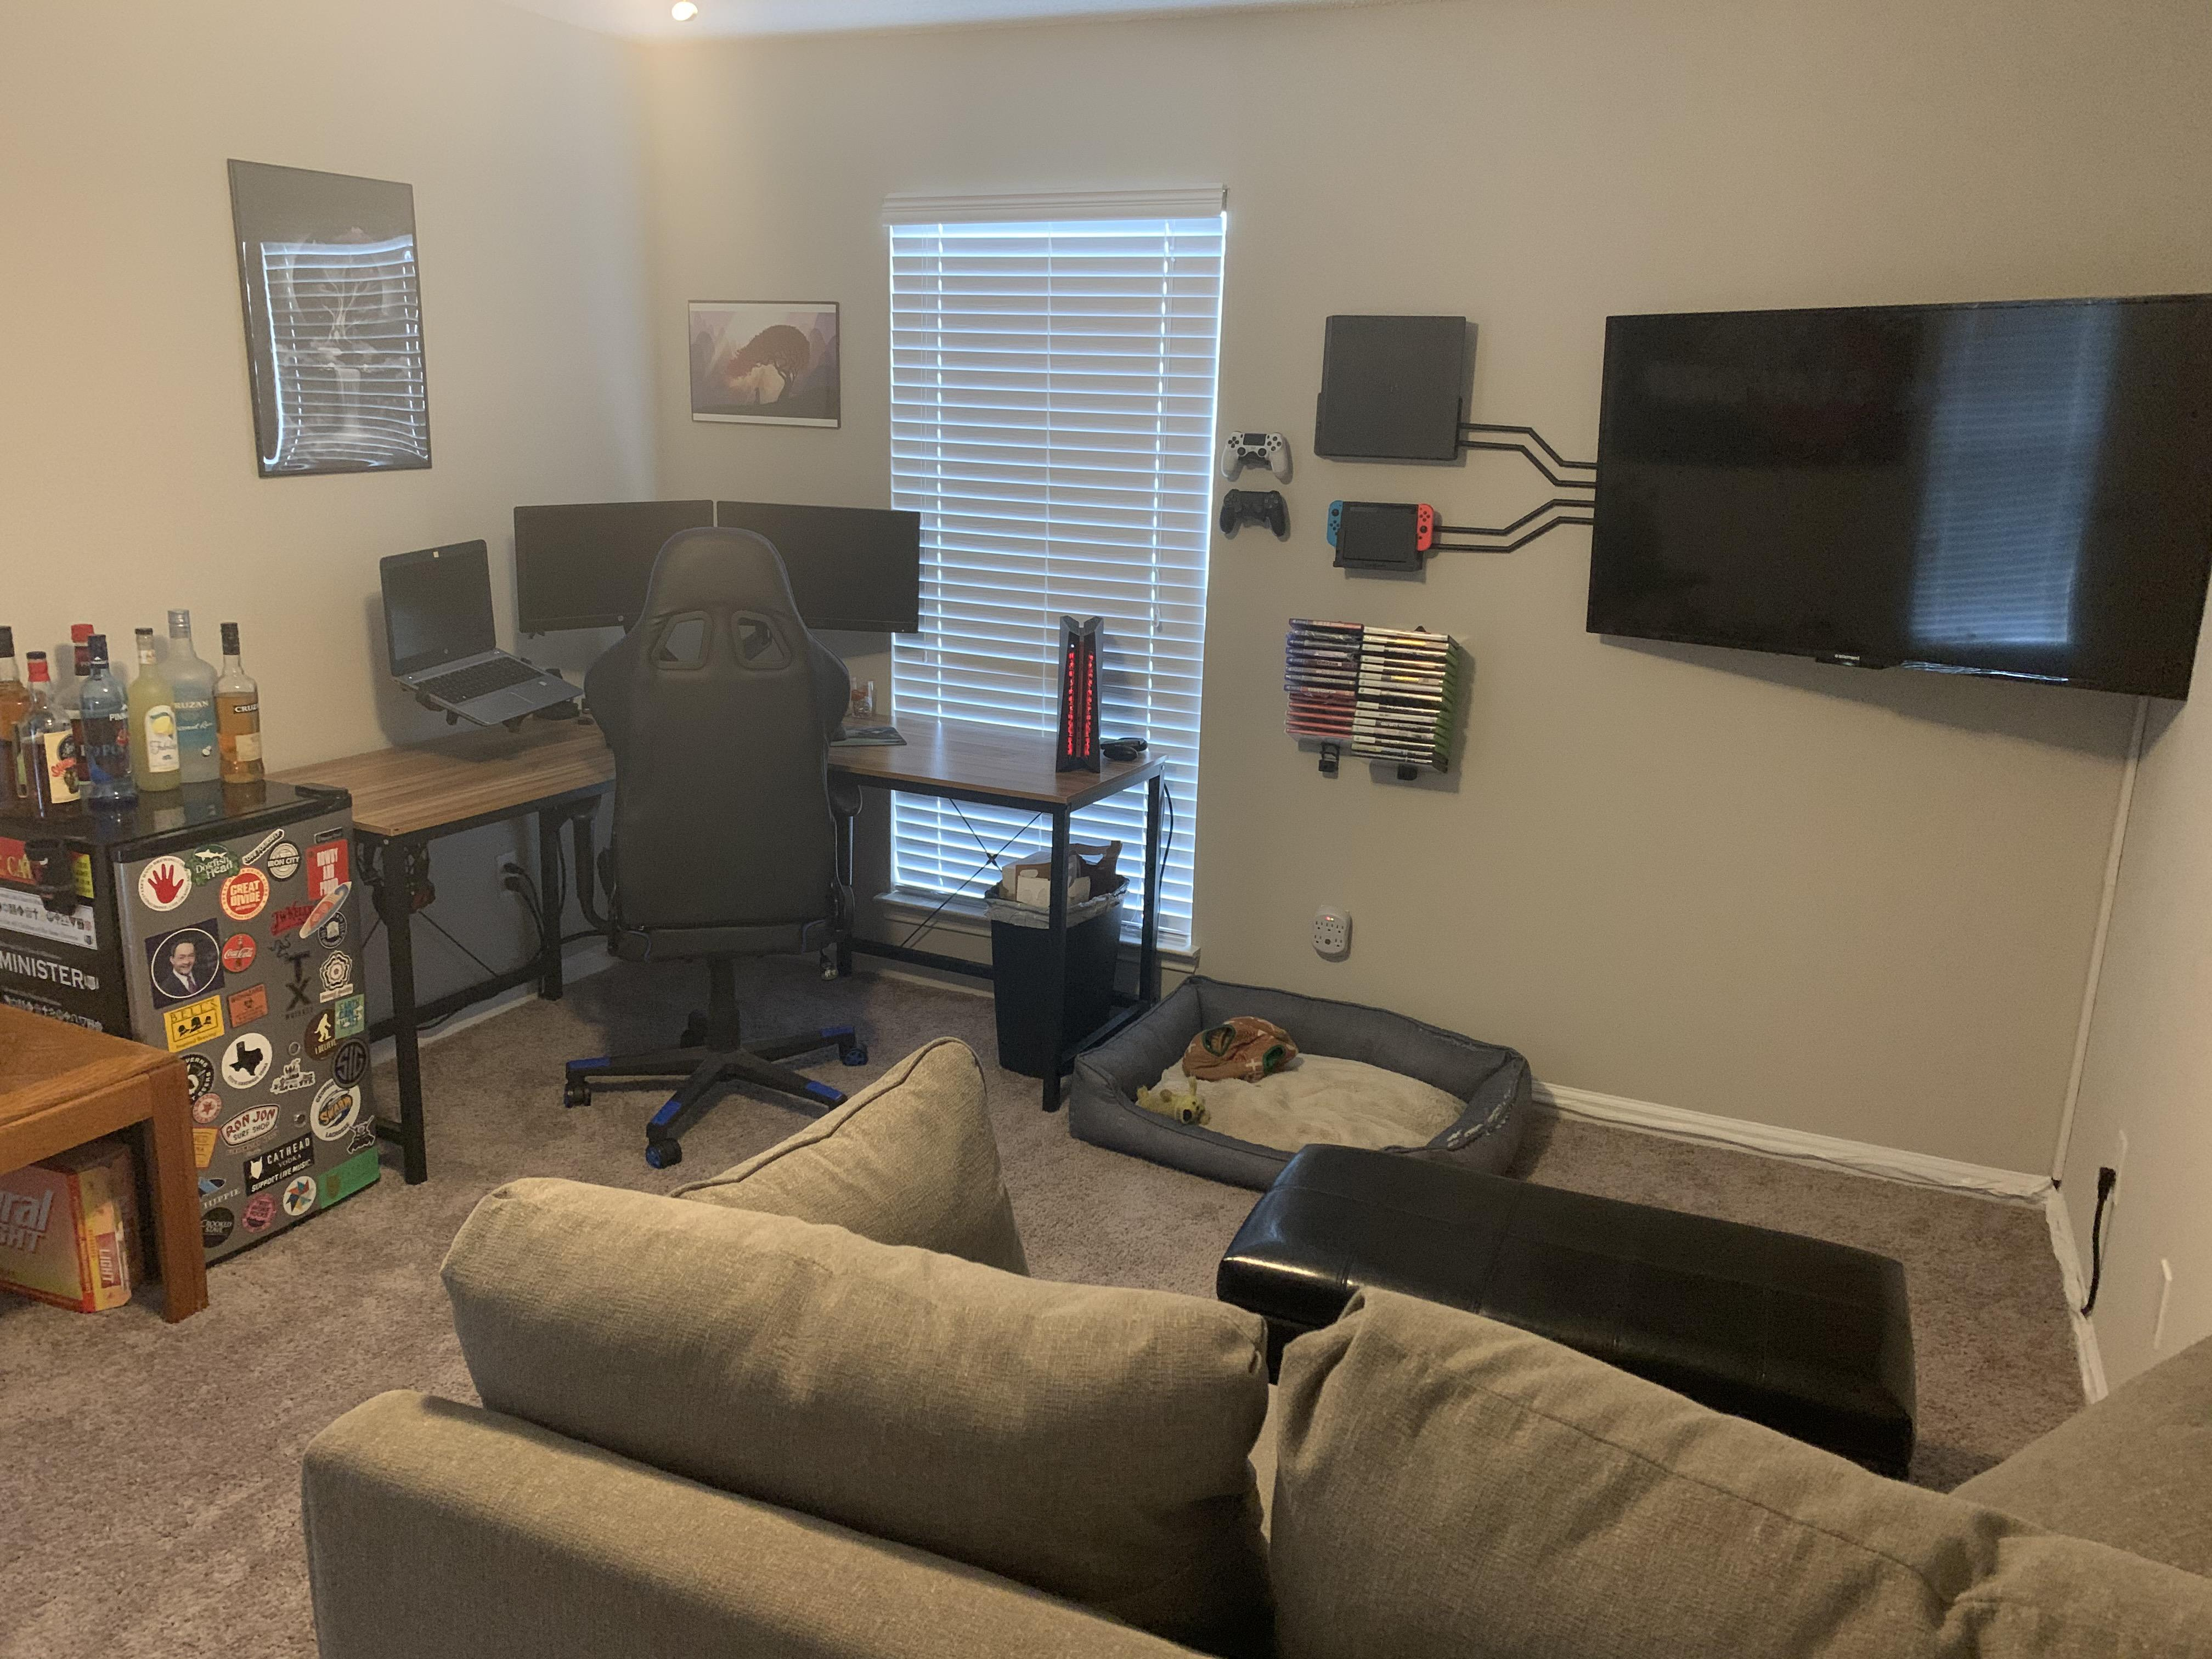Chair (Gaming): (554, 526, 874, 1169)
Decoration (Picture): (226, 157, 435, 481), (683, 301, 841, 430)
Desk (Generic): (275, 708, 1167, 1192)
Desktop (Windows): (1052, 615, 1106, 775)
Gaming Console: (1315, 314, 1468, 467), (1322, 498, 1435, 577)
Gaming Controller: (1214, 490, 1294, 542), (1223, 425, 1294, 483)
Headphones: (357, 819, 467, 943)
Laptop (Generic): (376, 540, 587, 728)
Laptop Stand: (399, 681, 582, 742)
Mini Fridge: (7, 767, 390, 1272)
Monitor (Landscape): (712, 504, 921, 634), (514, 502, 716, 629)
Trash Can: (981, 845, 1130, 1084)
